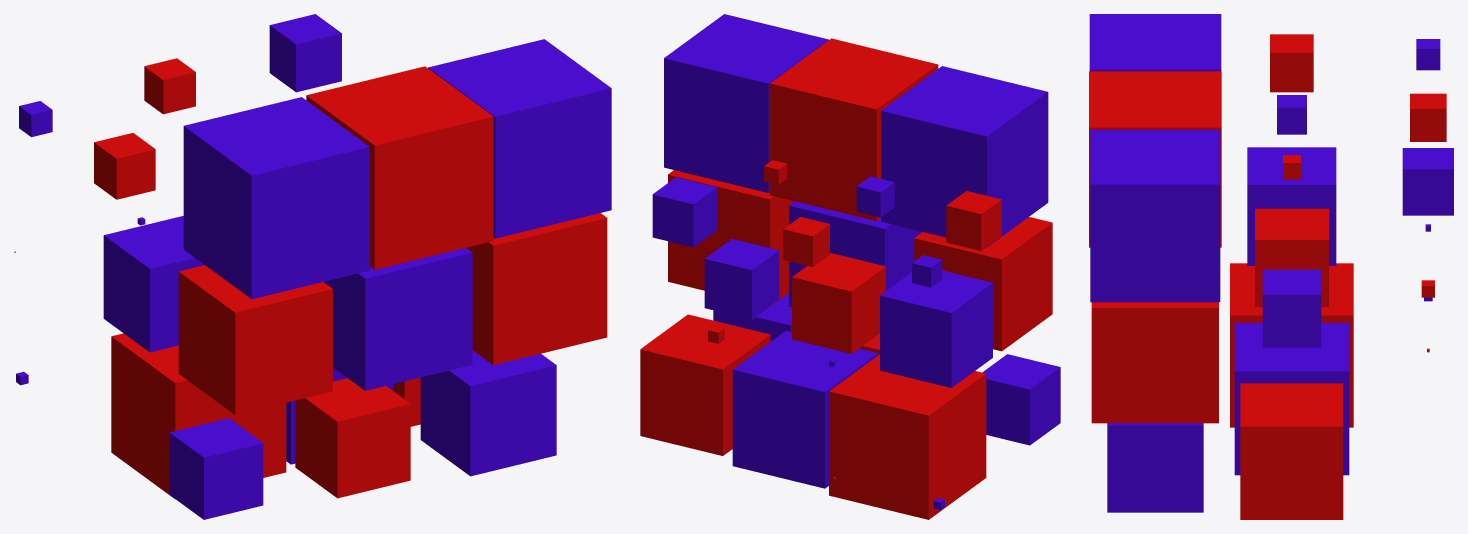
The picture shows the model from 3 angles, left to right: view 1: azimuth 30°, elevation 25°; view 2: azimuth 150°, elevation 25°; view 3: azimuth 270°, elevation 25°; orthographic projection. The views are drawn at different scales.
Visible parts, largest first — view 1: Cube_1_6, Cube_7, Cube_1_8, Cube_3, Cube_5, Cube_1_4, Cube_1_2, Cube_9, Cube_1, Cube_1_12, Cube_1_0, Cube_1_26 (+5 smaller); view 2: Cube_1_6, Cube_9, Cube_7, Cube_1_8, Cube_1_10, Cube_11, Cube_1_12, Cube_3, Cube_13, Cube_5, Cube_1_0, Cube_1_14 (+8 smaller); view 3: Cube_1_8, Cube_5, Cube_11, Cube_1_2, Cube_7, Cube_1_6, Cube_1_10, Cube_1_12, Cube_13, Cube_1_14, Cube_9, Cube_1_26 (+5 smaller).
Boxes of the visible parts, box(x1,y1,x2,y2) form: Cube_1_6: box(183, 97, 369, 299); Cube_7: box(306, 66, 493, 269); Cube_1_8: box(428, 39, 611, 238); Cube_3: box(178, 265, 332, 414); Cube_5: box(466, 213, 607, 365); Cube_1_4: box(324, 248, 472, 390); Cube_1_2: box(420, 350, 556, 476); Cube_9: box(111, 333, 286, 498); Cube_1: box(295, 378, 410, 498); Cube_1_12: box(103, 216, 204, 352); Cube_1_0: box(169, 418, 263, 519); Cube_1_26: box(269, 14, 341, 92); Cube_1_6: box(881, 66, 1048, 247); Cube_9: box(829, 354, 986, 519); Cube_7: box(770, 38, 938, 220); Cube_1_8: box(664, 14, 828, 192); Cube_1_10: box(732, 330, 878, 488); Cube_11: box(640, 314, 770, 455); Cube_1_12: box(880, 270, 992, 387); Cube_3: box(914, 217, 1052, 351); Cube_13: box(792, 253, 885, 353); Cube_5: box(668, 170, 794, 306); Cube_1_0: box(982, 354, 1060, 445); Cube_1_14: box(704, 239, 779, 319); Cube_1_8: box(1090, 129, 1220, 302); Cube_5: box(1091, 302, 1218, 423); Cube_11: box(1240, 383, 1343, 519); Cube_1_2: box(1107, 423, 1203, 512); Cube_7: box(1089, 71, 1221, 247); Cube_1_6: box(1089, 14, 1221, 71); Cube_1_10: box(1234, 323, 1349, 475); Cube_1_12: box(1247, 147, 1336, 265); Cube_13: box(1255, 208, 1328, 306); Cube_1_14: box(1262, 269, 1321, 347); Cube_9: box(1230, 263, 1353, 427); Cube_1_26: box(1402, 148, 1453, 215).
Size of the model in its own units: 3.45 by 2.94 by 2.67.
